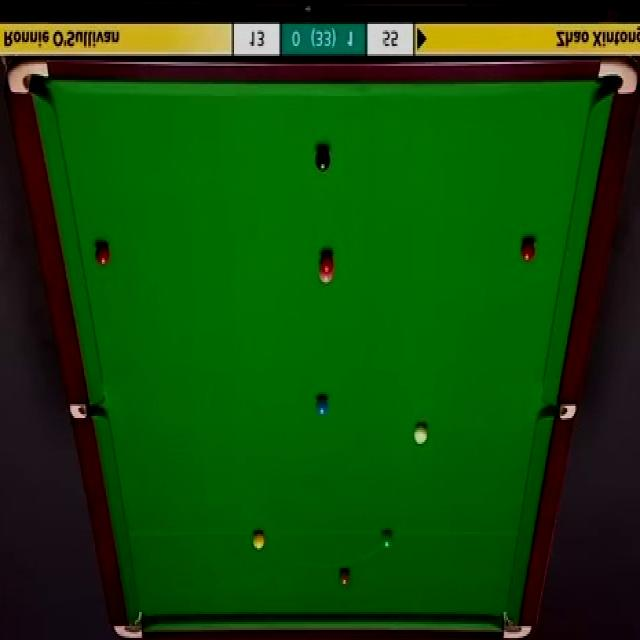black-ball: (314, 150, 332, 172)
blue-ball: (314, 394, 329, 418)
brown-ball: (338, 566, 350, 585)
green-ball: (380, 530, 393, 551)
pink-ball: (318, 270, 333, 284)
red-ball: (518, 240, 536, 264), (94, 243, 111, 268), (321, 253, 334, 273)
white-ball: (413, 423, 430, 445)
yellow-ball: (251, 530, 265, 551)
